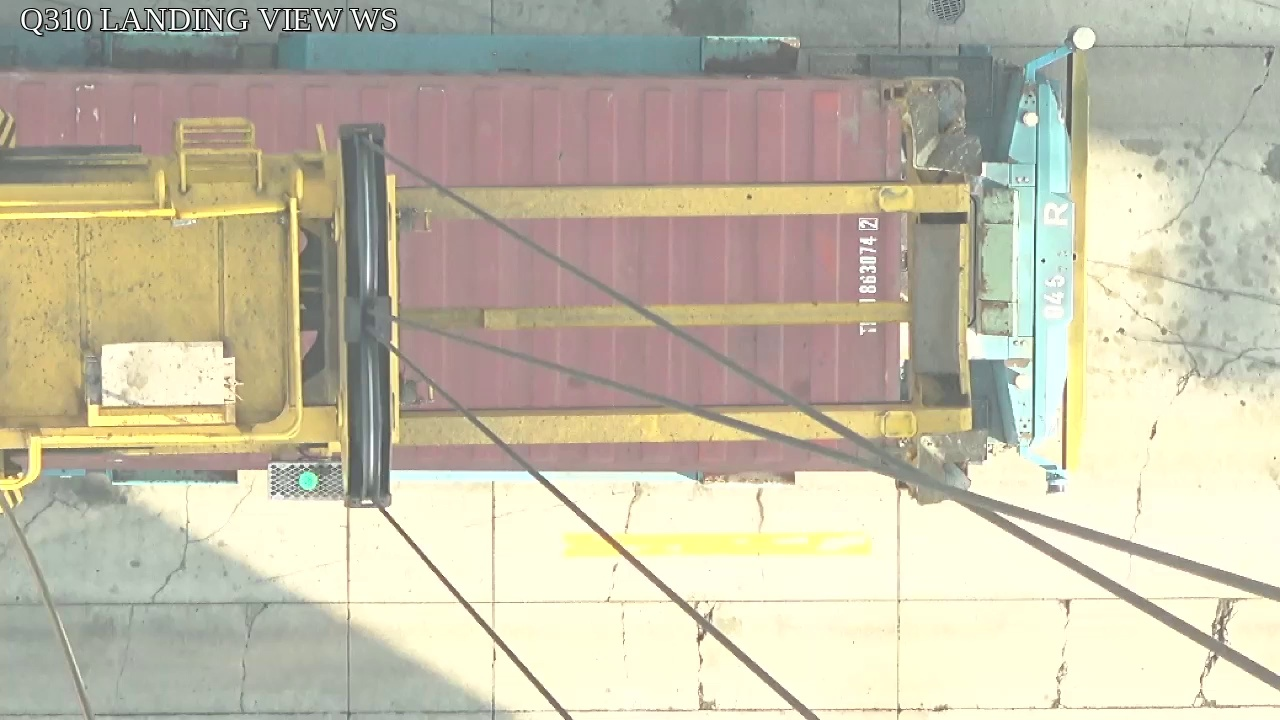right: (332, 123, 399, 511)
